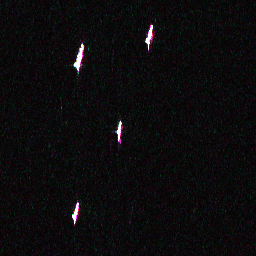ship: (72, 42, 86, 71), (143, 23, 156, 46), (70, 200, 82, 222), (114, 120, 124, 137)
